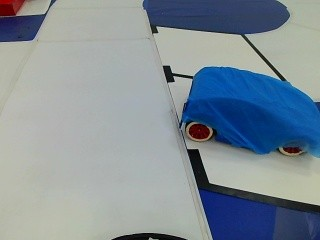car: (167, 60, 318, 158)
